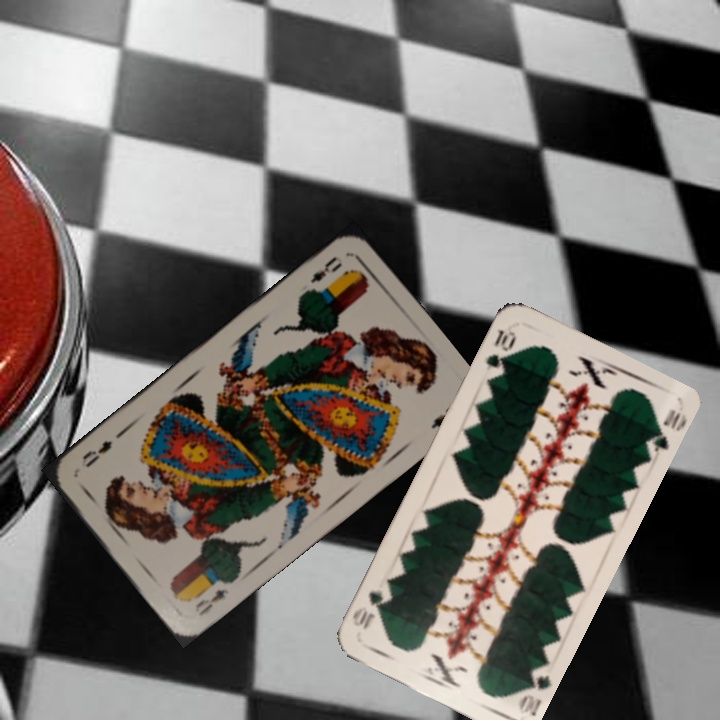EO: (302, 252, 345, 295), (190, 585, 232, 619)
G10: (514, 661, 554, 719), (481, 324, 519, 372)
